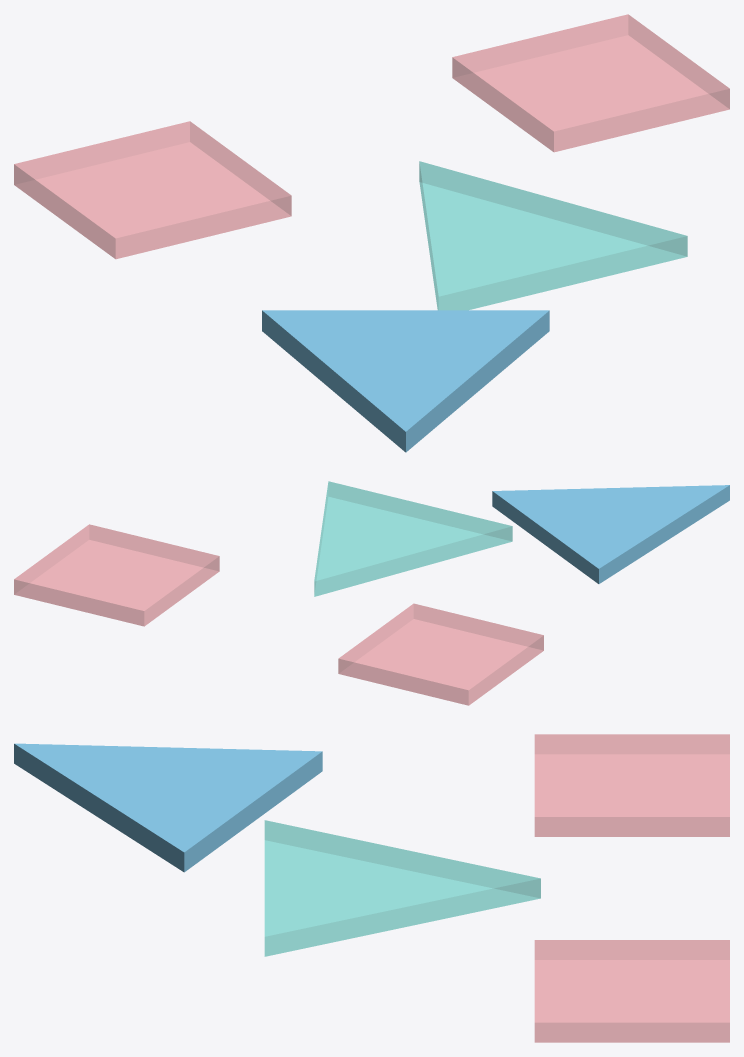
File: farfalla_step5.glb
3 views of the same model, one above another, from view 1: azimuth 30°, elevation 25°; view 2: azimuth 150°, elevation 25°; view 3: azimuth 270°, elevation 25° (orthographic). The views are drawn at different scales.
Parts seen in each view (by area): view 1: triangolo_isoscele_grande, rombo, rombo.001, triangolo_isoscele_piccolo; view 2: triangolo_isoscele_grande, rombo, rombo.001, triangolo_isoscele_piccolo; view 3: triangolo_isoscele_grande, triangolo_isoscele_piccolo, rombo, rombo.001.
Part boxes in pixels (left/top/right/bottom): triangolo_isoscele_grande: left=262, top=310, right=549, bottom=452; rombo: left=14, top=121, right=291, bottom=259; rombo.001: left=452, top=14, right=729, bottom=152; triangolo_isoscele_piccolo: left=419, top=161, right=687, bottom=310; triangolo_isoscele_grande: left=492, top=485, right=729, bottom=583; rombo: left=338, top=603, right=543, bottom=705; rombo.001: left=14, top=524, right=219, bottom=626; triangolo_isoscele_piccolo: left=314, top=481, right=512, bottom=596; triangolo_isoscele_grande: left=14, top=743, right=322, bottom=872; triangolo_isoscele_piccolo: left=264, top=820, right=540, bottom=956; rombo: left=534, top=734, right=729, bottom=836; rombo.001: left=534, top=940, right=729, bottom=1042.
Bounding box in the file's own units: 2.47 × 0.08 × 2.59.
